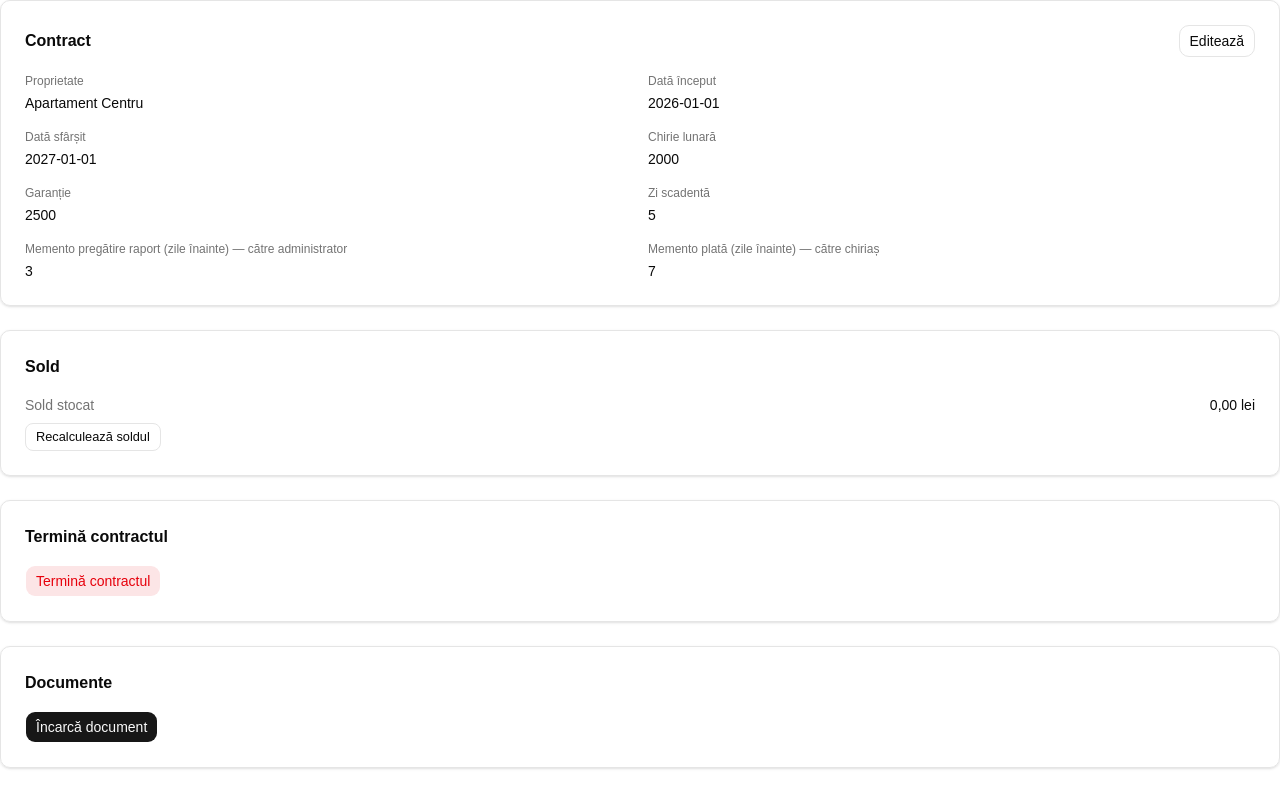
TenancyTab — End Contract (FR-CON-03/05) › states the balance is settled when currentBalance is zero
This screenshot has width=1280, height=800.
Click the button "Termină contractul".
click(93, 581)  # box [25, 565, 161, 597]
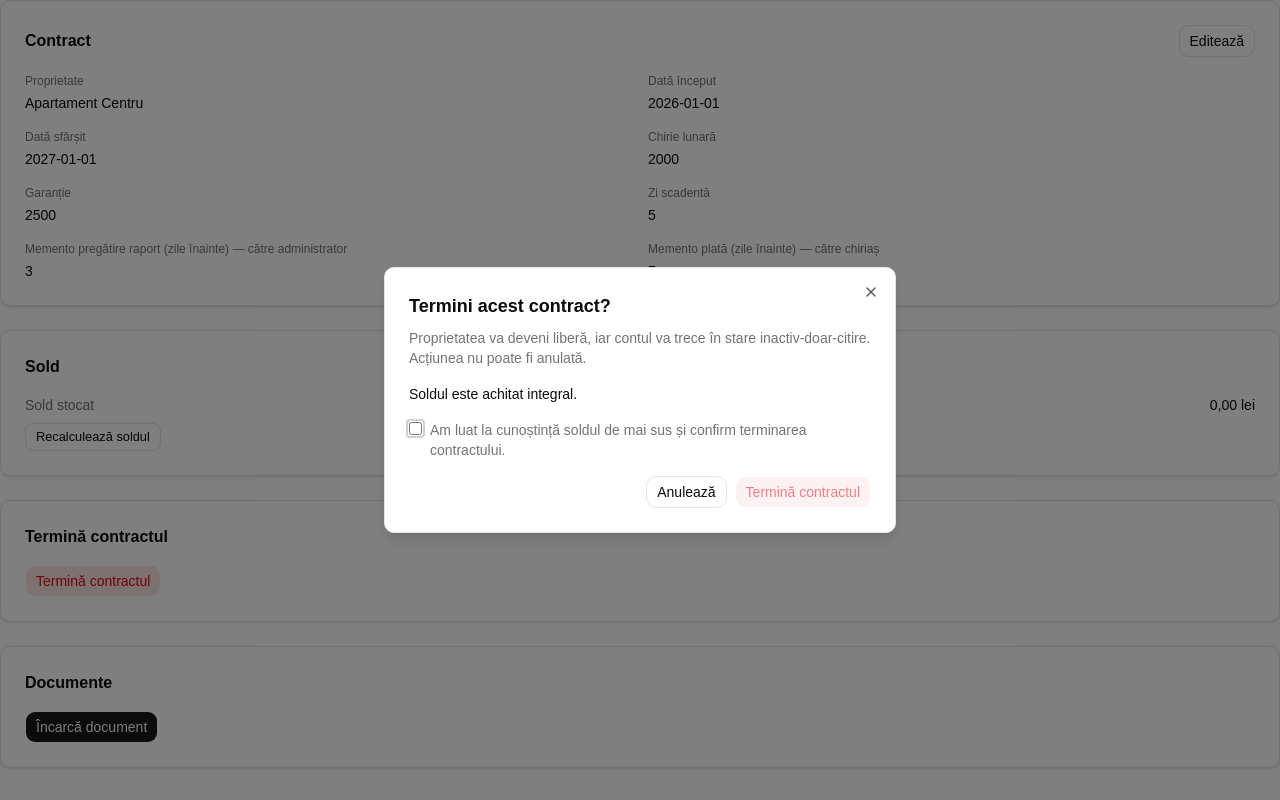
Expected: the text "Soldul este achitat integral." is shown, [409, 386, 577, 402]
